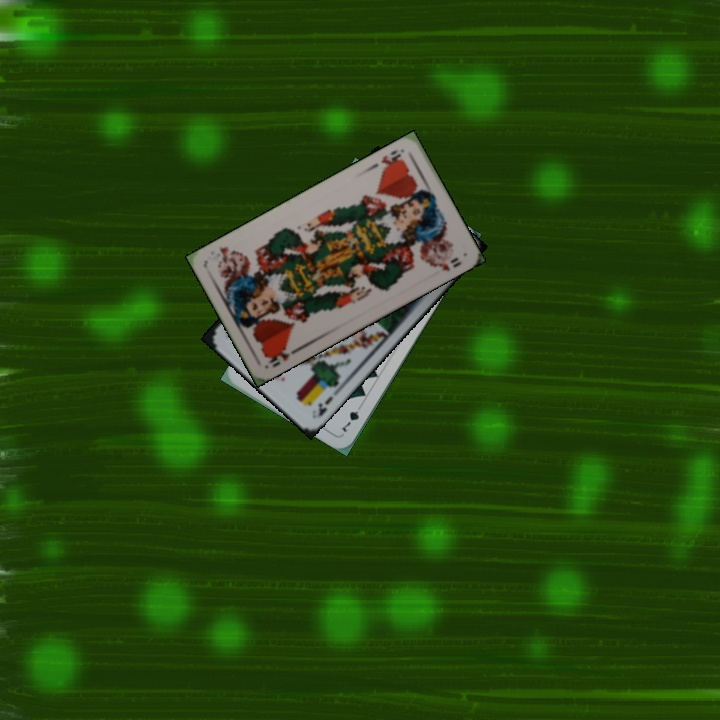EK: (312, 392, 335, 421)
G7: (338, 399, 364, 435)
HO: (261, 343, 300, 370), (377, 145, 406, 174)
